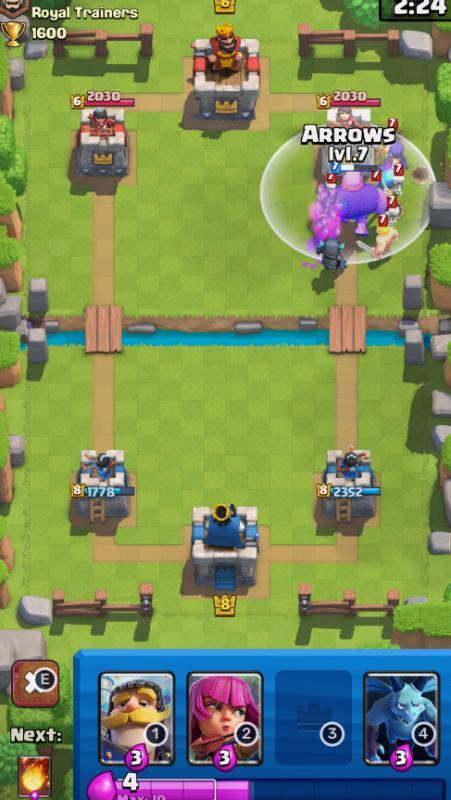enemy_barbarians: (368, 218, 400, 256)
enemy_skeletons: (378, 162, 407, 196), (376, 193, 405, 224), (321, 163, 344, 191)
player_giant: (318, 162, 388, 237)
player_mini_pekka: (310, 230, 354, 279)
